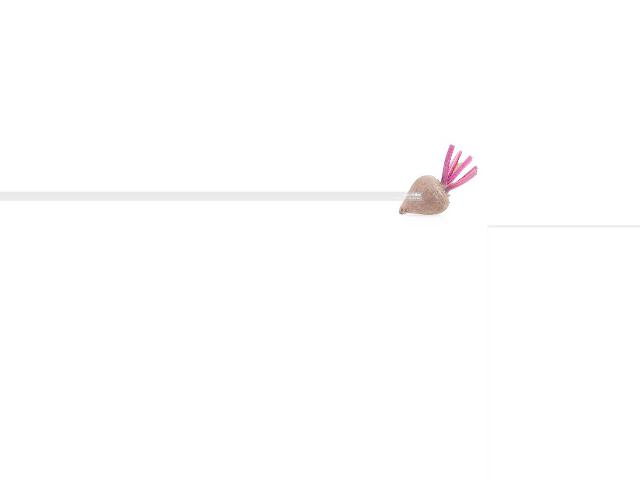beet: (398, 144, 477, 215)
